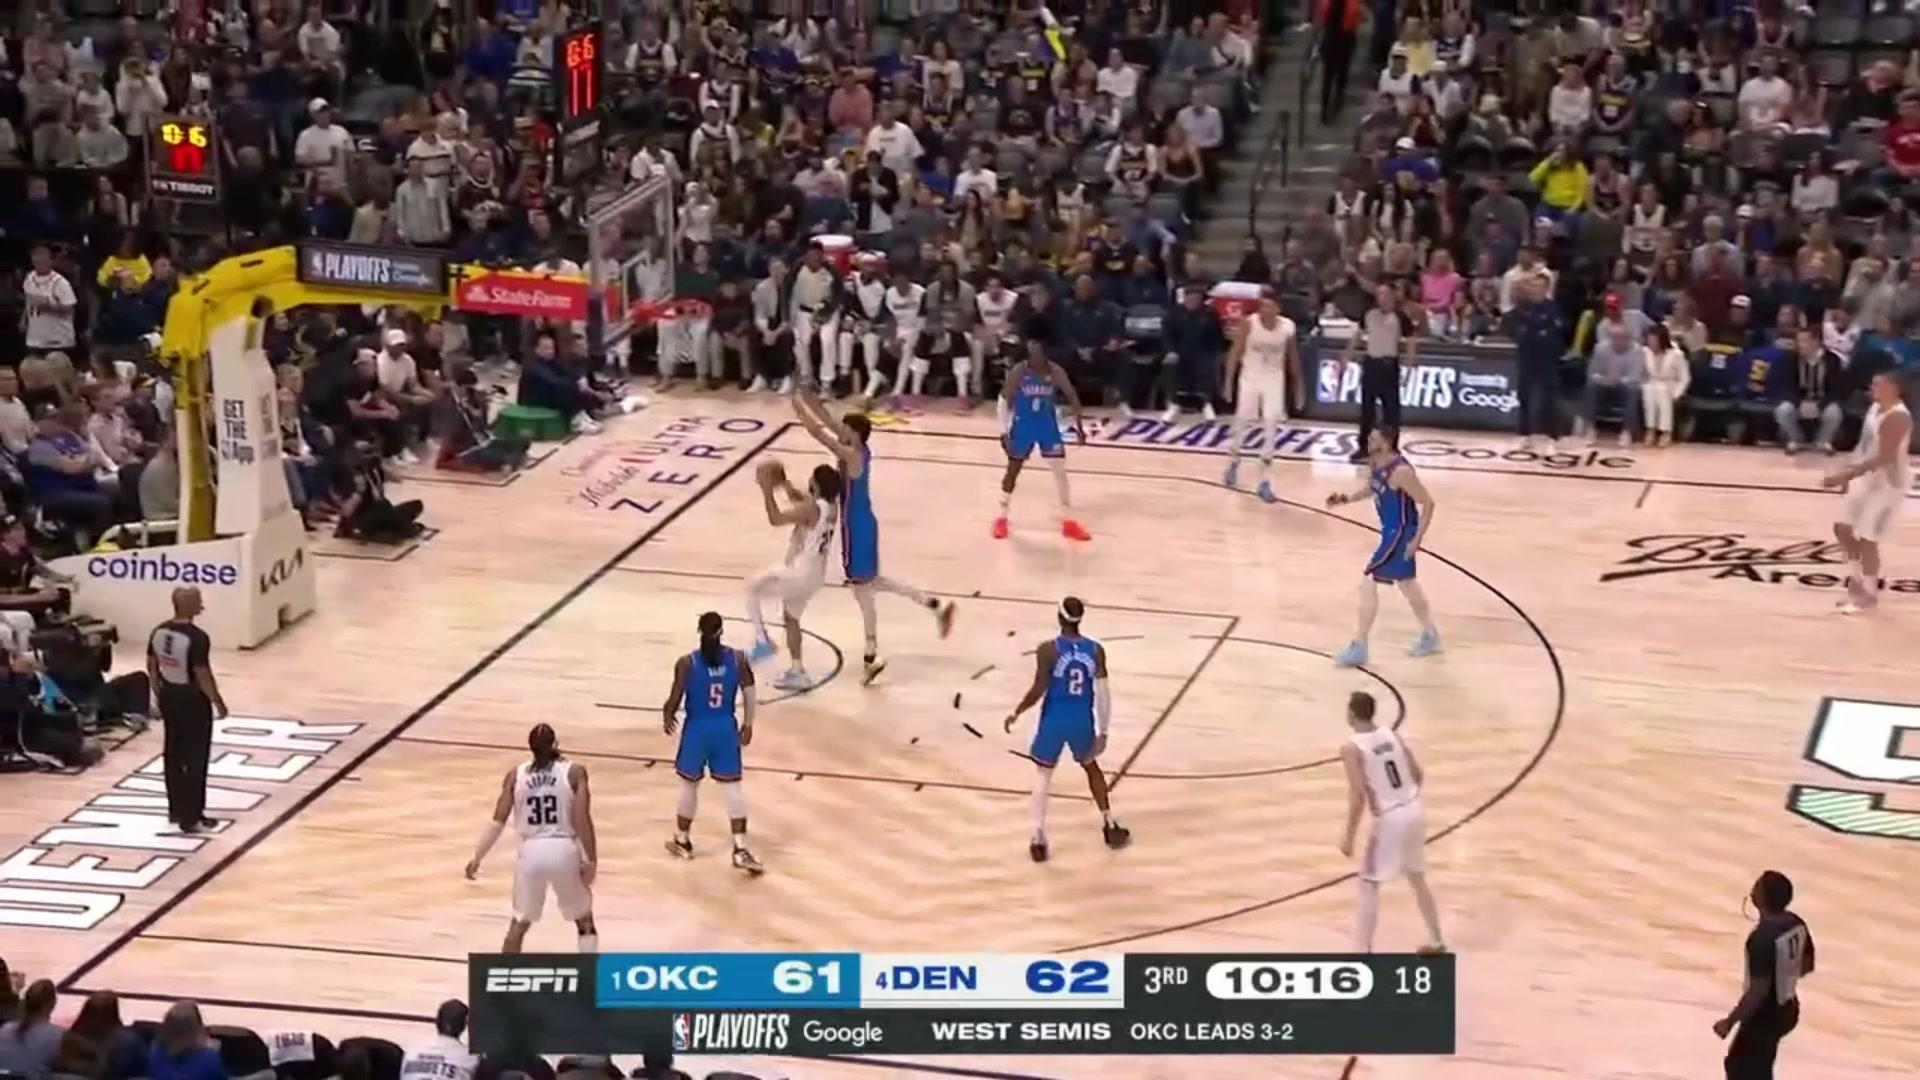no_foul: (733, 356, 964, 699)
